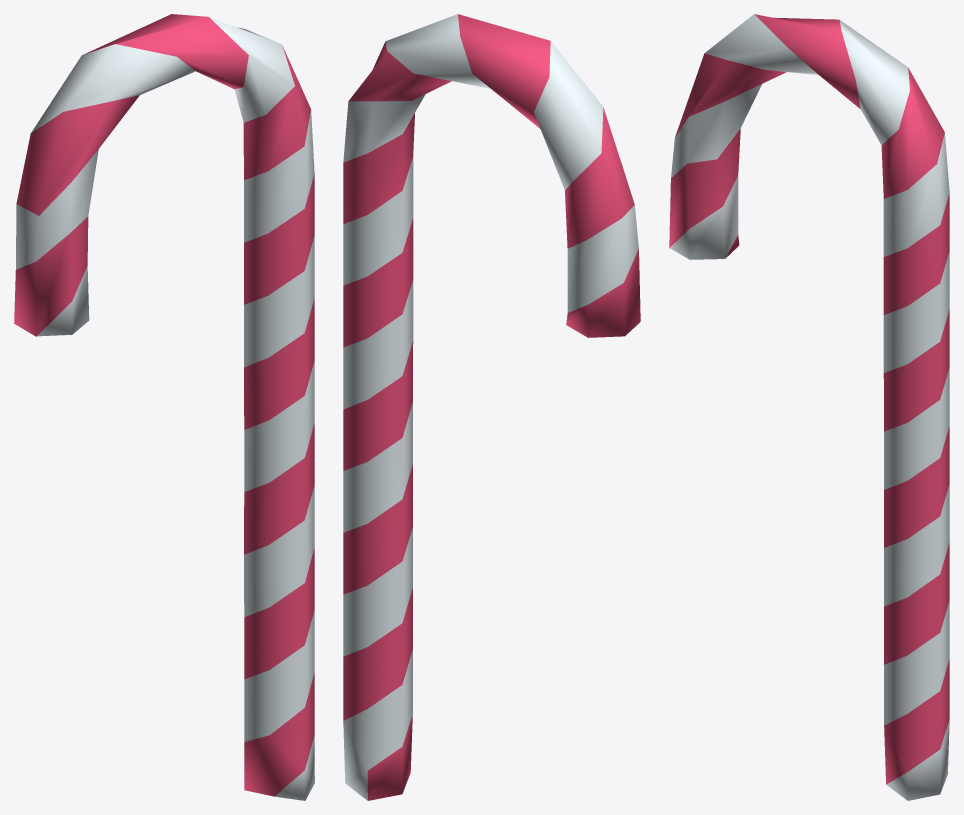
The model's file is candy_assets5.fbx.
3 renders of one model, left to right at view 1: azimuth 30°, elevation 25°; view 2: azimuth 150°, elevation 25°; view 3: azimuth 330°, elevation 25°, orthographic. The views are drawn at different scales.
Visible parts, largest first — view 1: candy_assets5; view 2: candy_assets5; view 3: candy_assets5.
Part boxes in pixels (x1,y1,x2,y2): candy_assets5: (14,14,314,800); candy_assets5: (343,14,640,800); candy_assets5: (669,14,949,800).
Bounding box in the file's own units: 387 × 1024 × 87.2.
1 material, 1 textured.
